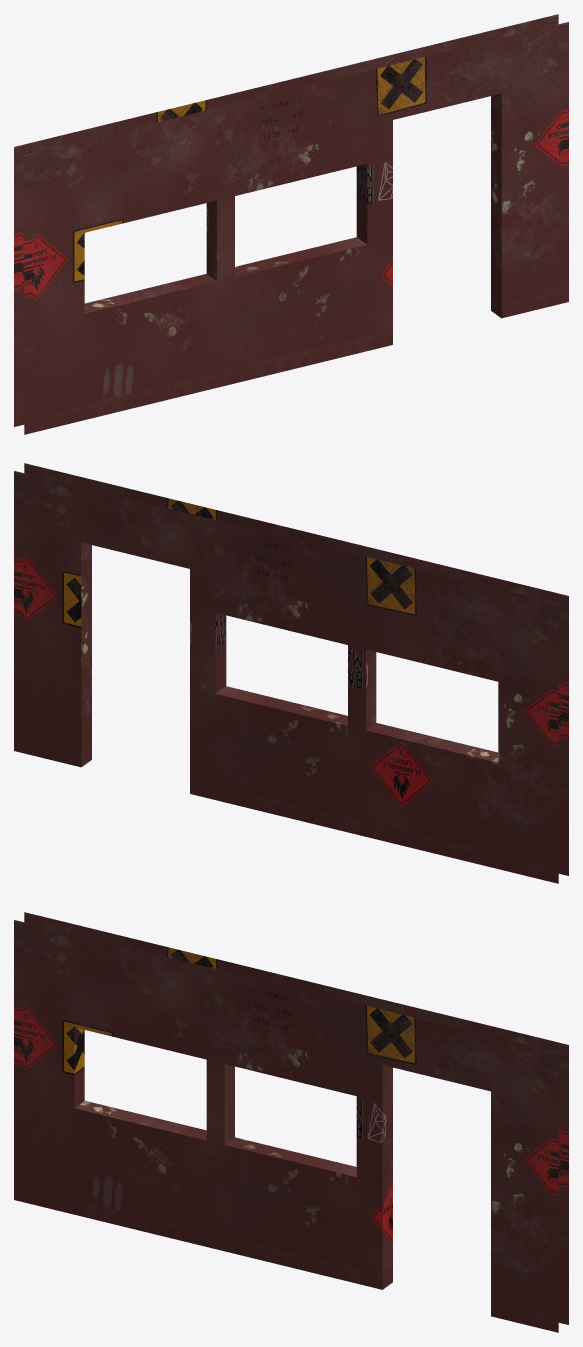
Rendered from CS_wall_door_and_windows.FBX.
3 renders of one model, top to bottom at view 1: azimuth 30°, elevation 25°; view 2: azimuth 150°, elevation 25°; view 3: azimuth 330°, elevation 25°, orthographic.
Parts seen in each view (by area): view 1: SM_wall_door_and_windows; view 2: SM_wall_door_and_windows; view 3: SM_wall_door_and_windows.
Boxes of the visible parts, bbox=[...] form: SM_wall_door_and_windows: bbox=[14, 14, 568, 434]; SM_wall_door_and_windows: bbox=[14, 463, 568, 883]; SM_wall_door_and_windows: bbox=[14, 912, 568, 1332].
Size of the model in its own units: 600 by 20 by 295.
